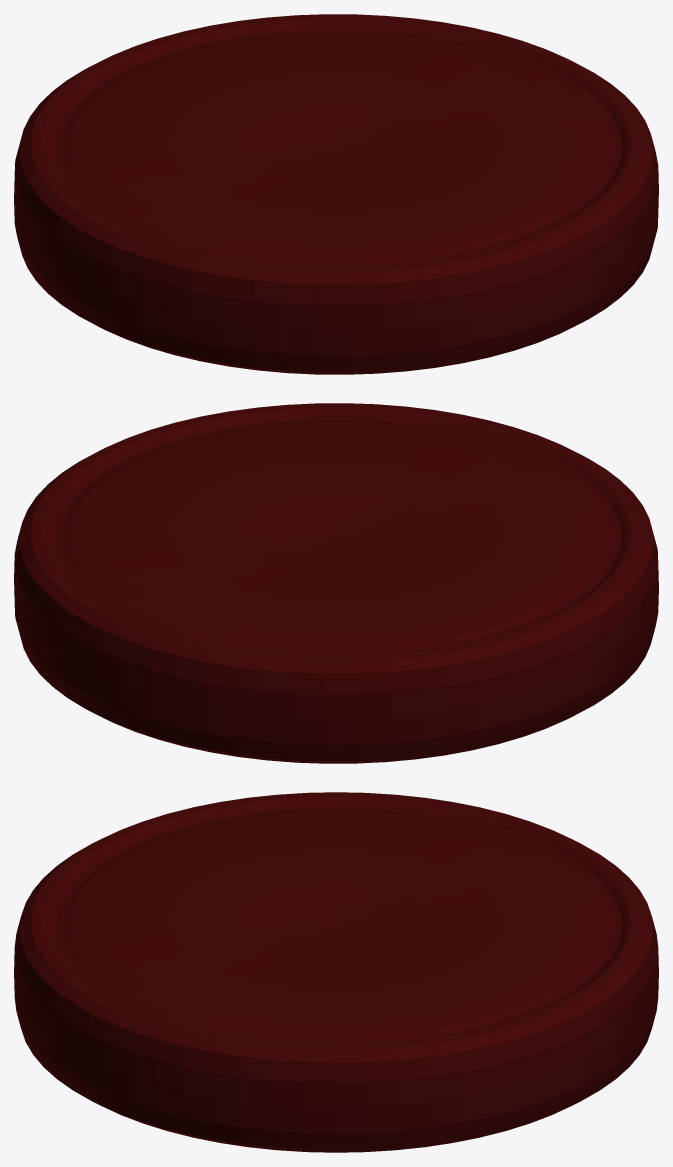
The model's file is piece-b-bakugan.fbx.
The picture shows the model from 3 angles, top to bottom: view 1: azimuth 30°, elevation 25°; view 2: azimuth 150°, elevation 25°; view 3: azimuth 270°, elevation 25°; orthographic projection.
Visible parts, largest first — view 1: Cylinder.001; view 2: Cylinder.001; view 3: Cylinder.001.
Boxes of the visible parts, x1,y1,x2,y2 form: Cylinder.001: [14, 14, 658, 374]; Cylinder.001: [14, 403, 658, 763]; Cylinder.001: [14, 792, 658, 1152].
Size of the model in its own units: 112 by 19.94 by 112.
